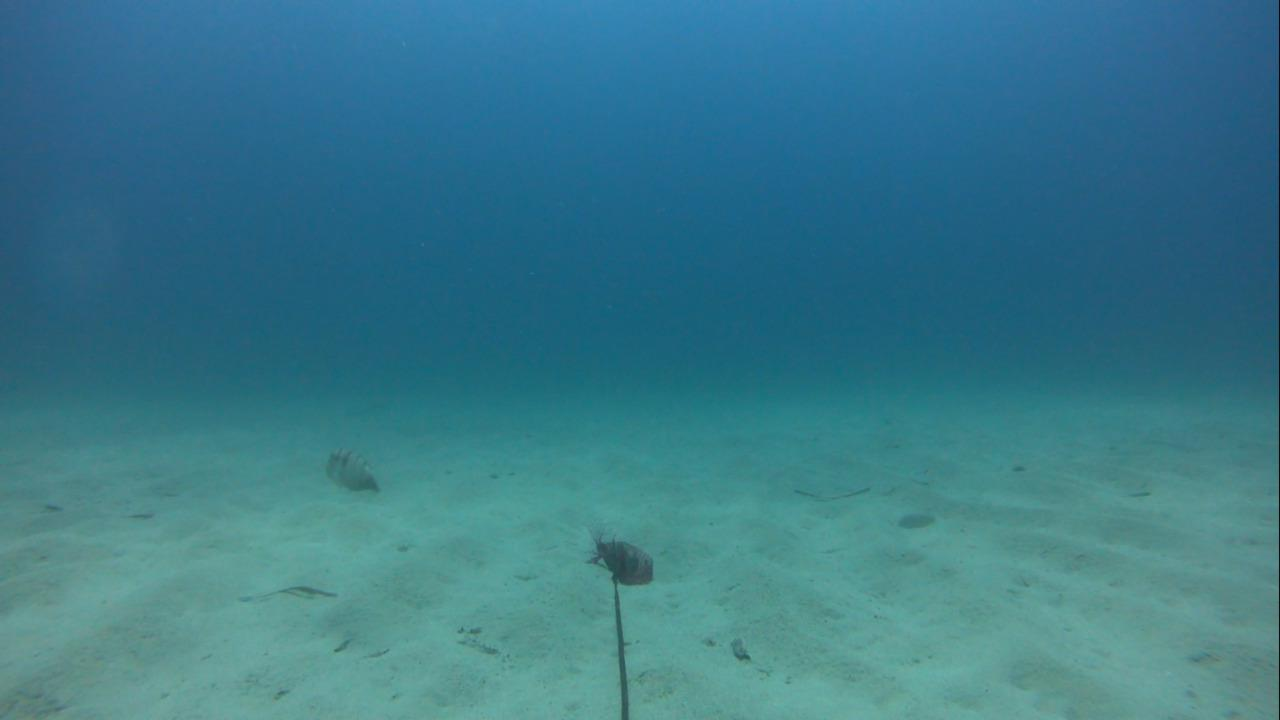raor: (316, 436, 391, 499)
